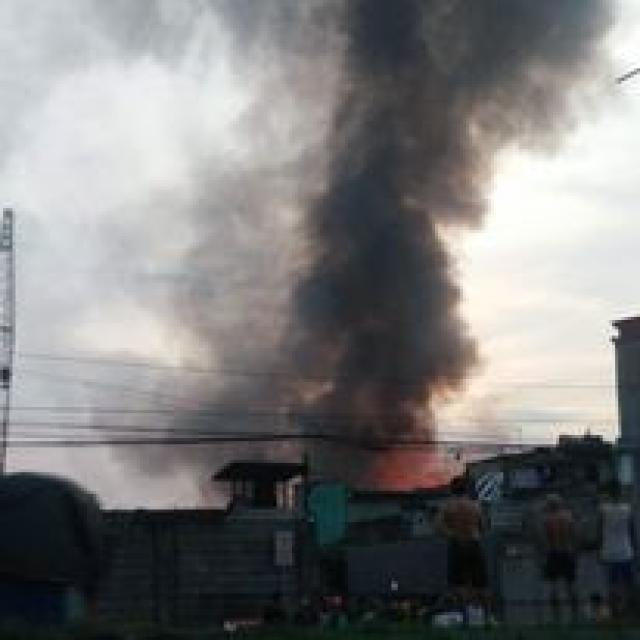Smoke: (268, 0, 568, 447)
